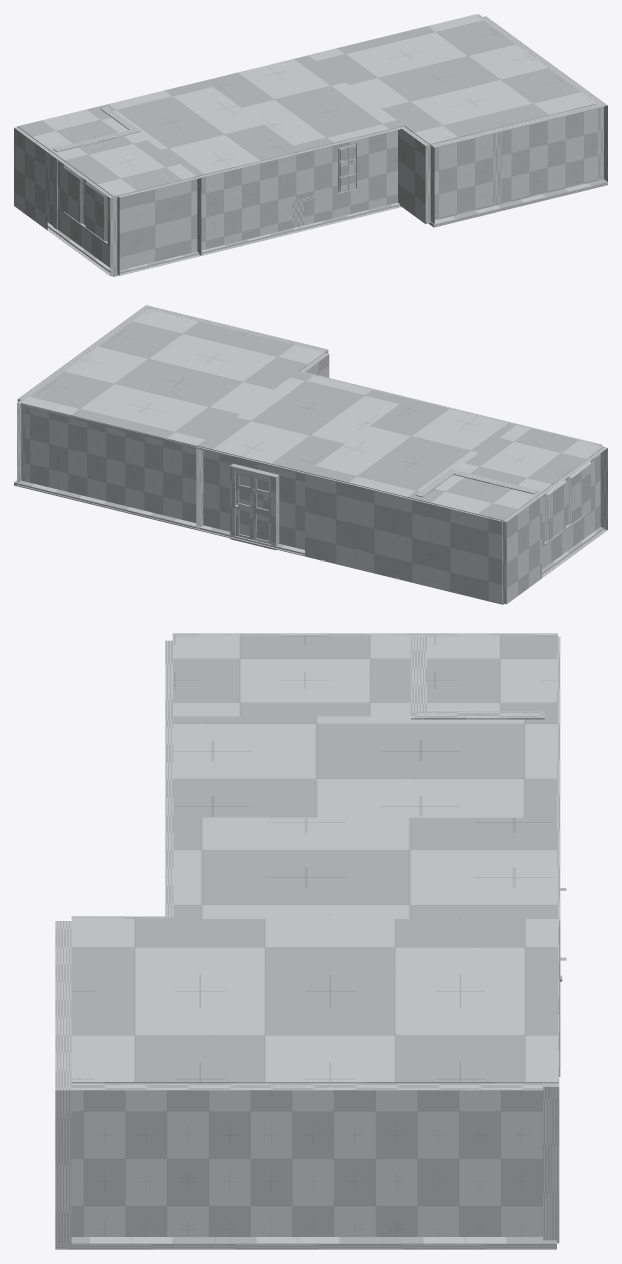
The model's file is player_traphouse.glb.
3 renders of one model, top to bottom at view 1: azimuth 30°, elevation 25°; view 2: azimuth 150°, elevation 25°; view 3: azimuth 270°, elevation 25°, orthographic. The views are drawn at different scales.
Parts seen in each view (by area): view 1: floor_1x2.003, wall_1x1, wall_1x1.002, floor_1x2.004, floor_1x2.005, floor_1x1.001, wall_1x2.001, wall_window1x1.002, wall_1x2.006, wall_window1x1.004, floor_1x2.006, wall_1x1.006 (+7 smaller); view 2: floor_1x2.003, wall_1x2.002, wall_1x1.005, floor_1x2.004, floor_1x2.005, floor_1x1.001, wall_window1x1.002, frount door, wall_window1x1.004, frame.002, floor_1x2.006, wall_1x1.006 (+6 smaller); view 3: floor_1x2.003, wall_1x1.006, floor_1x2.004, floor_1x2.005, floor_1x1.001, floor_1x2.006, wall_1x1.002, wall_1x1.005, wall_1x1, wall_1x2.002, wall_1x1.001, wall_closet_door (+1 smaller).
Boxes of the visible parts, x1,y1,x2,y2 form: floor_1x2.003: [308, 14, 596, 144]; wall_1x1: [200, 127, 401, 255]; wall_1x1.002: [430, 102, 607, 223]; floor_1x2.004: [205, 55, 404, 153]; floor_1x2.005: [101, 81, 300, 178]; floor_1x1.001: [17, 106, 196, 198]; wall_1x2.001: [117, 176, 201, 275]; wall_window1x1.002: [14, 127, 117, 276]; wall_1x2.006: [398, 126, 430, 223]; wall_window1x1.004: [63, 168, 103, 240]; floor_1x2.006: [428, 179, 607, 227]; wall_1x1.006: [480, 16, 603, 180]; floor_1x2.003: [21, 309, 324, 448]; wall_1x2.002: [196, 446, 502, 603]; wall_1x1.005: [17, 400, 203, 529]; floor_1x2.004: [197, 372, 406, 474]; floor_1x2.005: [306, 398, 516, 499]; floor_1x1.001: [415, 425, 603, 520]; wall_window1x1.002: [503, 447, 607, 604]; frount door: [234, 472, 270, 543]; wall_window1x1.004: [548, 464, 590, 540]; frame.002: [230, 463, 279, 550]; floor_1x2.006: [14, 480, 196, 529]; wall_1x1.006: [17, 308, 147, 481]; floor_1x2.003: [71, 919, 558, 1083]; wall_1x1.006: [71, 1083, 543, 1236]; floor_1x2.004: [173, 817, 556, 918]; floor_1x2.005: [173, 716, 556, 817]; floor_1x1.001: [173, 635, 556, 716]; floor_1x2.006: [55, 1237, 556, 1249]; wall_1x1.002: [55, 921, 71, 1246]; wall_1x1.005: [543, 917, 559, 1243]; wall_1x1: [165, 720, 173, 916]; wall_1x2.002: [557, 636, 566, 1076]; wall_1x1.001: [410, 636, 426, 712]; wall_closet_door: [411, 711, 544, 719].
Bounding box in the file's own units: 22.55 × 3.79 × 10.66.
1 material, 1 textured.
